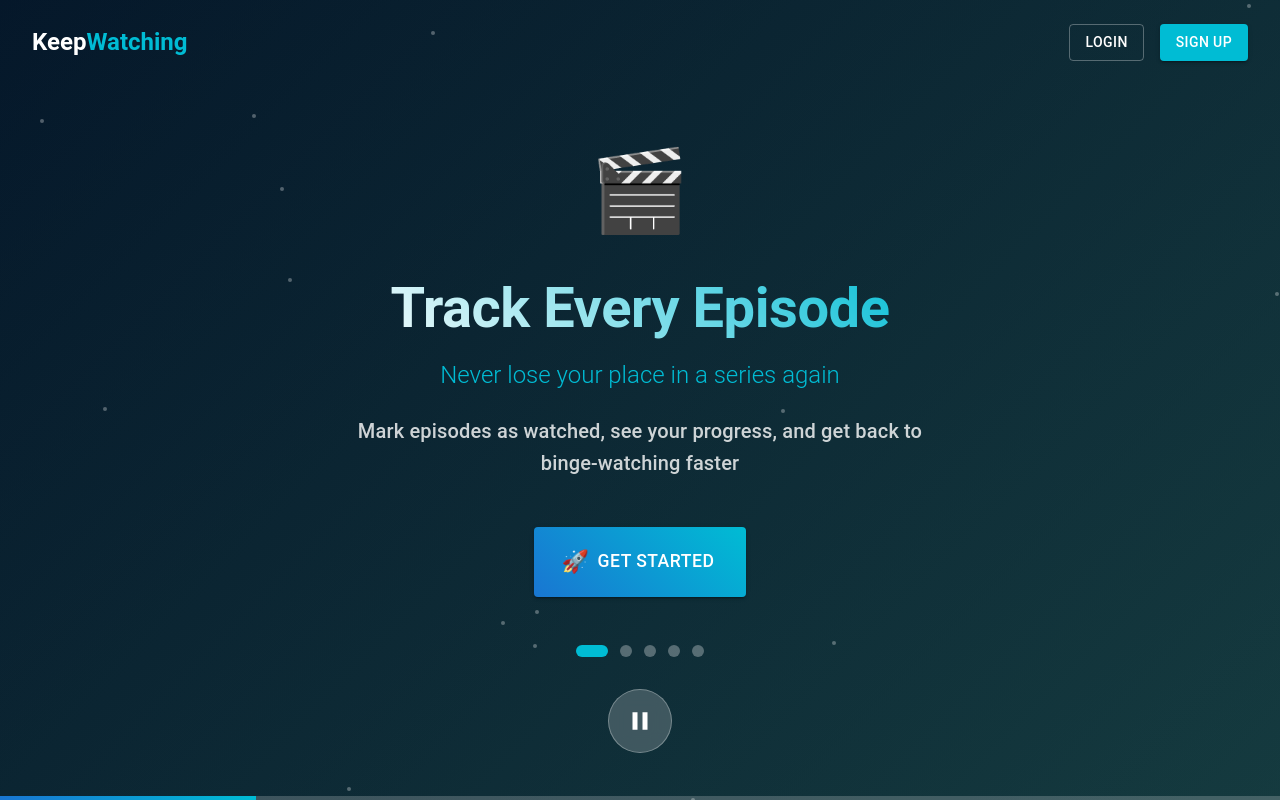
Test: EnhancedDefault › play/pause functionality › should toggle between play and pause
The width and height of the screenshot is (1280, 800).
Expected: the icon with test id "PauseIcon" is shown, [625,706,655,736]
# Click to pause
What coordinates should you click on to do the following:
click the button with test id "PauseIcon"
I would click on:
 (640, 721)
Its box is [608,689,672,753].
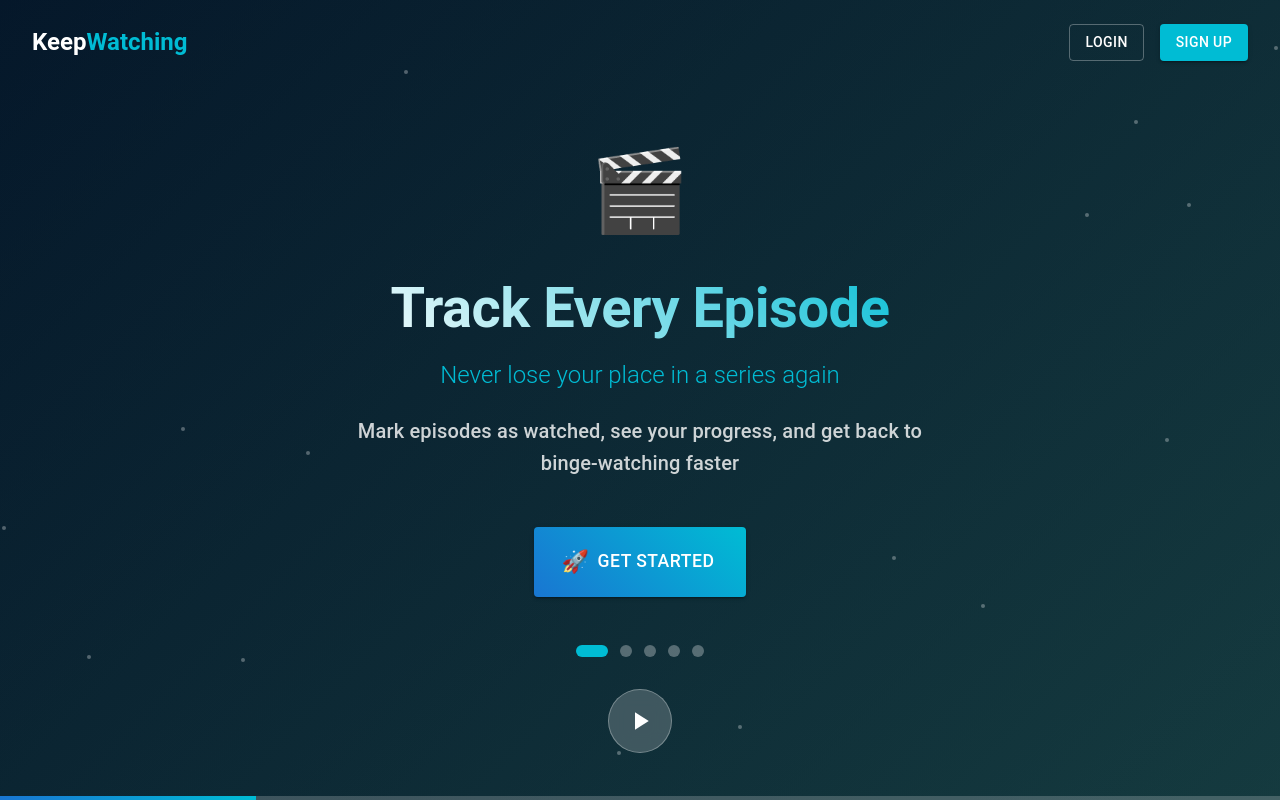
Expected: the icon with test id "PlayArrowIcon" is shown, [625,706,655,736]
